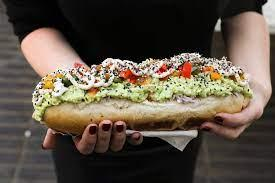Completos: (29, 54, 250, 139)
